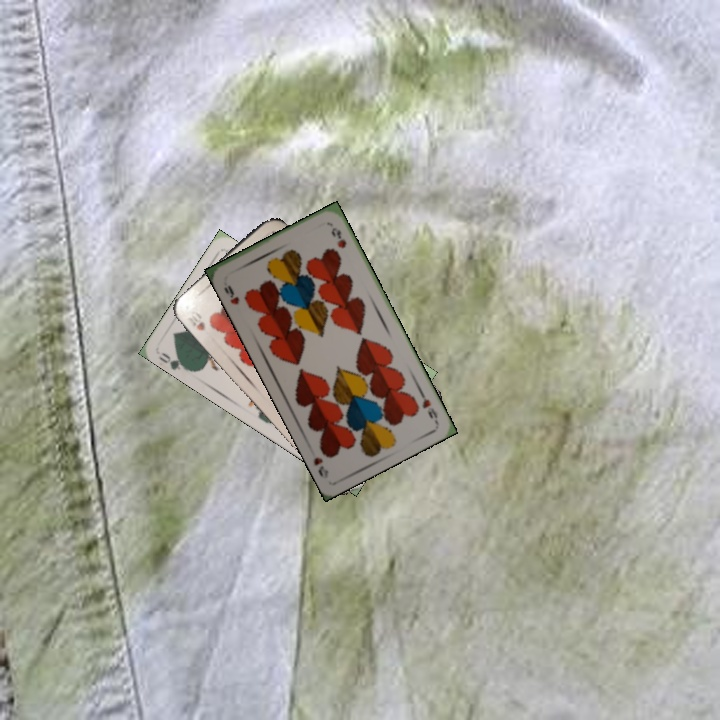GO: (155, 348, 193, 374)
H10: (183, 306, 208, 333)
H9: (416, 387, 440, 425), (220, 281, 242, 307)
